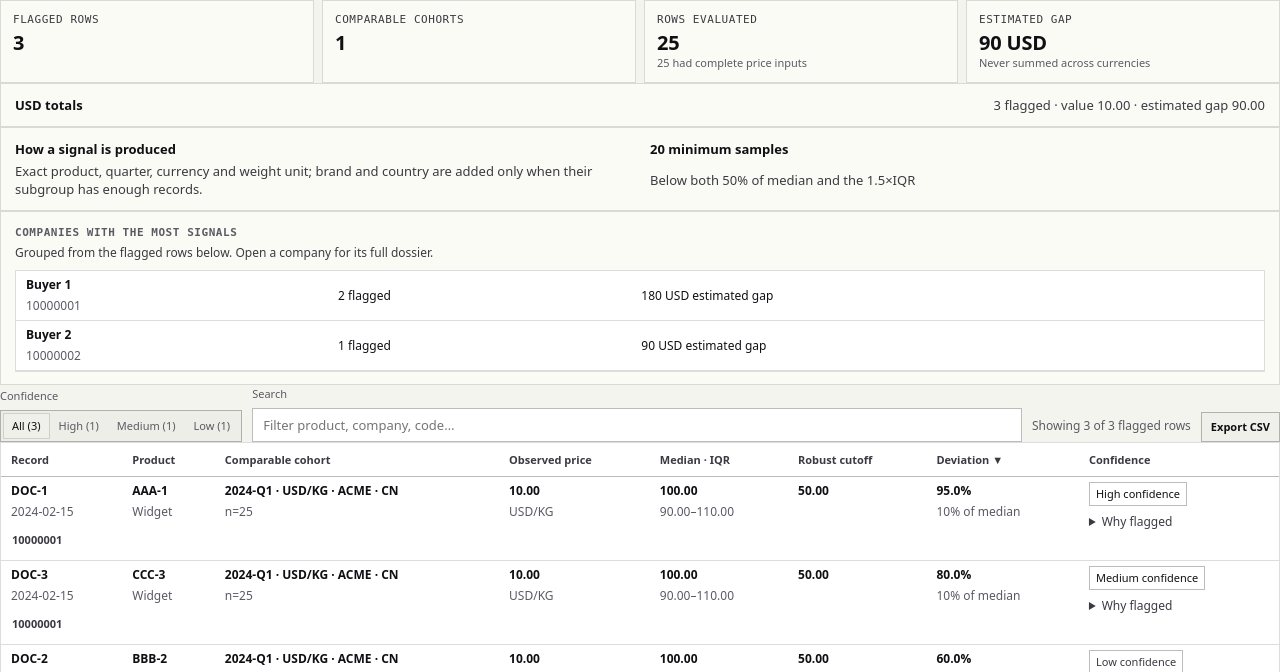
Test case: RiskResults › filters by confidence and text, sorts by deviation, and aggregates companies
# Confidence filter narrows the visible rows without touching the data.
Click the button "Medium (1)" at point(146, 426), box [108,413,184,439]
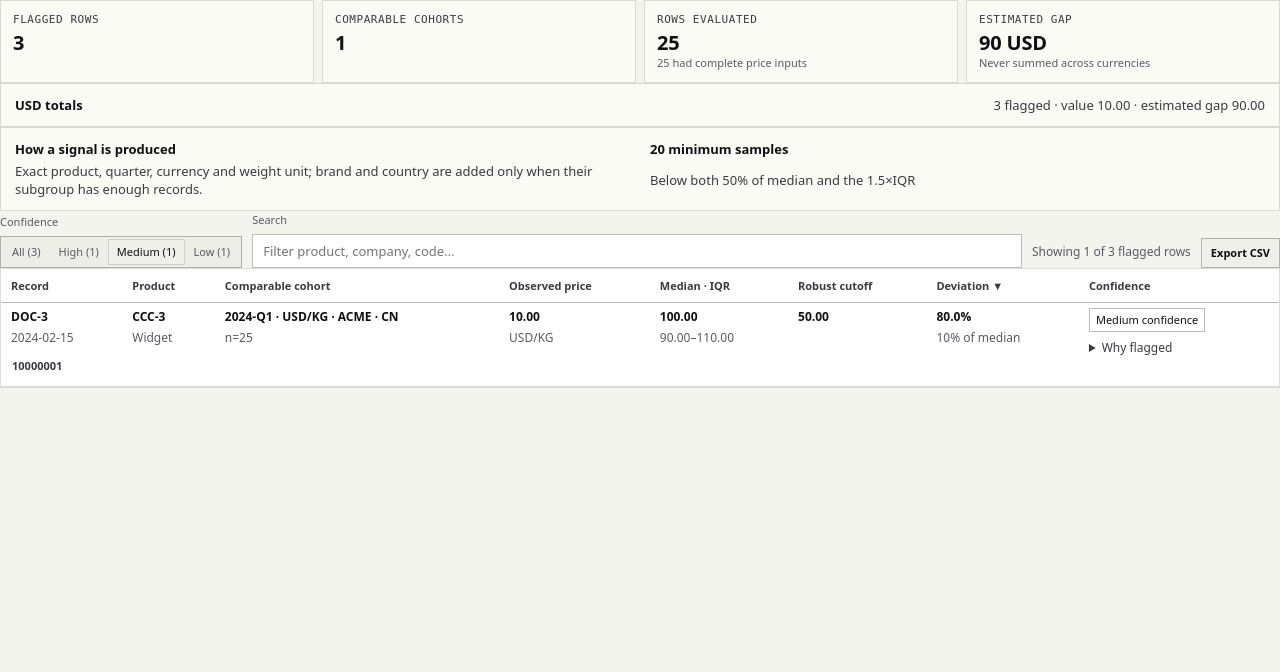
Click the button "All (3)" at point(26, 252), box [3,239,50,265]
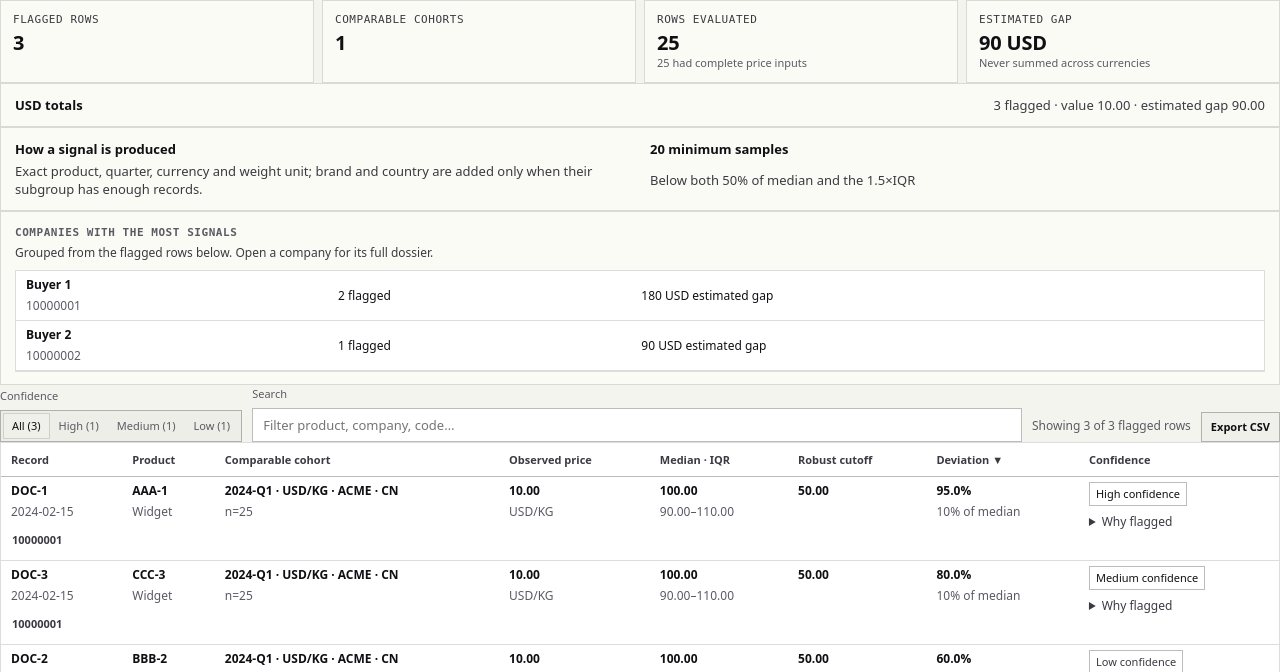
# Text filter matches product codes.
Type "bbb" into the field with placeholder "Filter product, company, code…" at point(637, 425), box [252,408,1022,442]
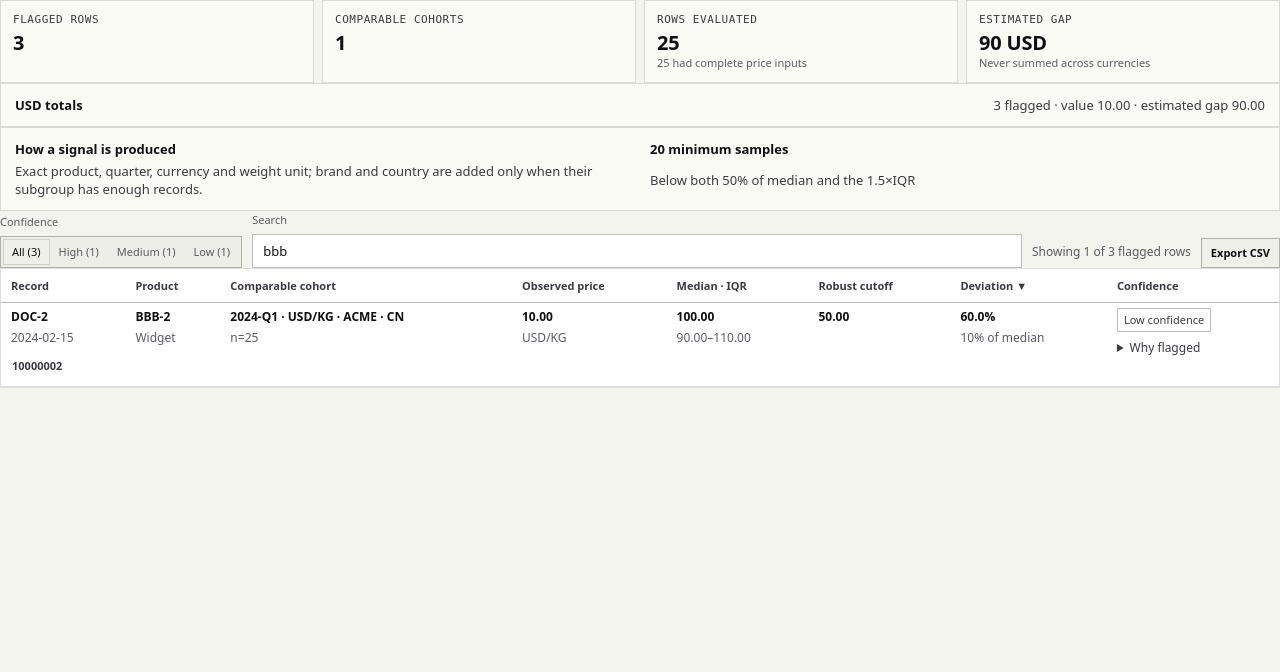
Clear the field with placeholder "Filter product, company, code…" at point(637, 251), box [252,234,1022,268]
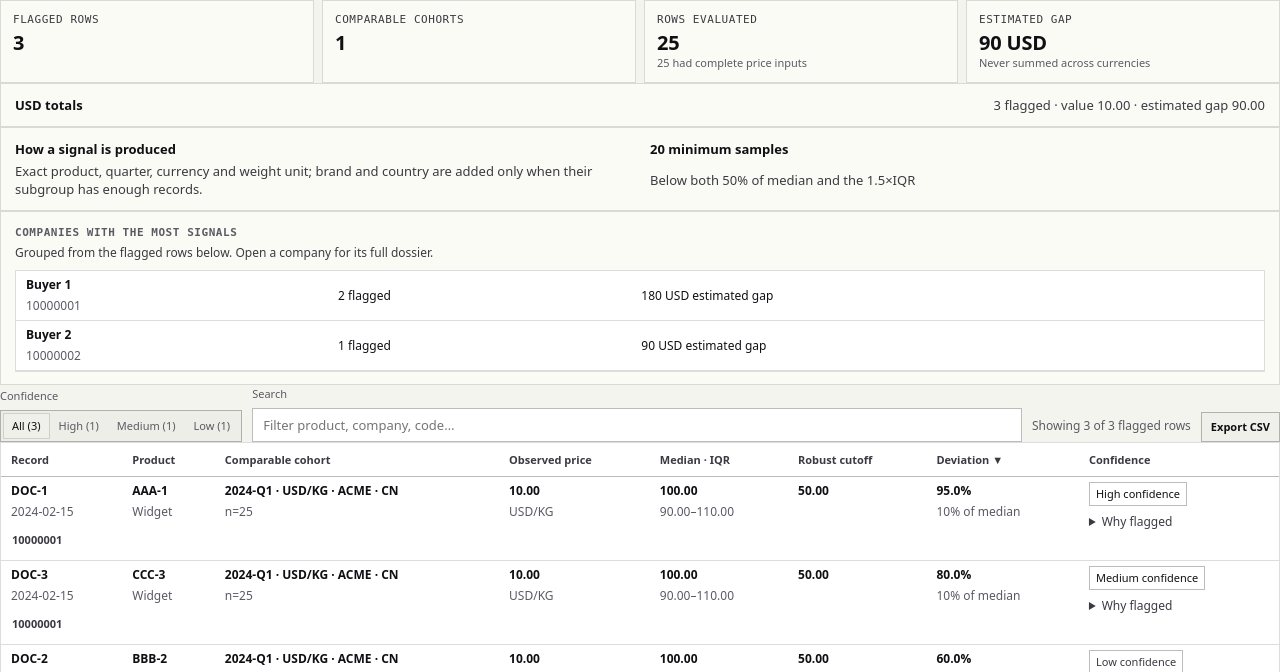
Result: the text "Companies with the most signals" is shown at [15,226,237,239]
Result: the text "Buyer 1" is shown at [26,276,71,293]
